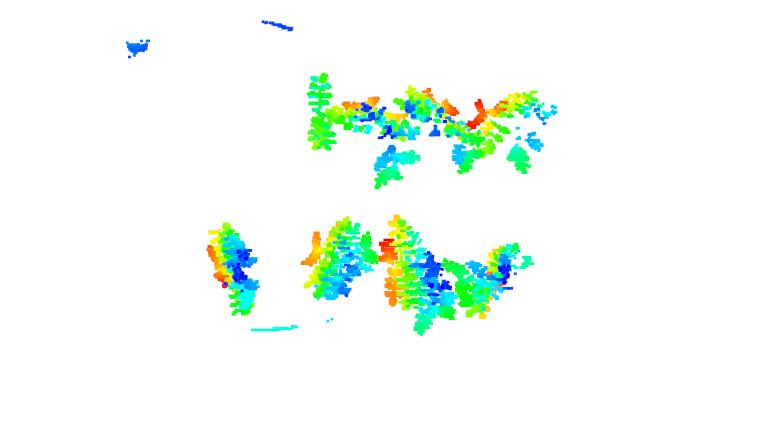chickpea: (380, 216, 460, 343), (372, 80, 454, 199), (302, 215, 381, 307), (298, 72, 379, 154), (456, 240, 536, 320), (200, 222, 264, 320), (446, 91, 509, 178), (506, 92, 562, 179)
